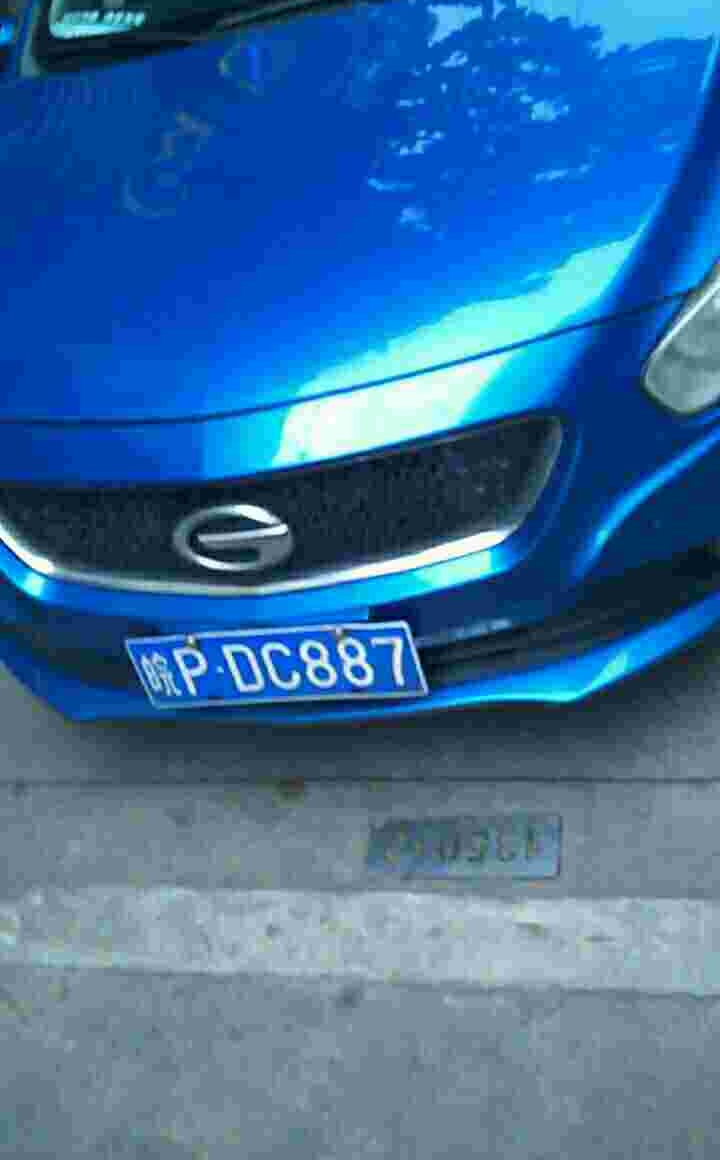license_plate: (125, 628, 420, 723)
